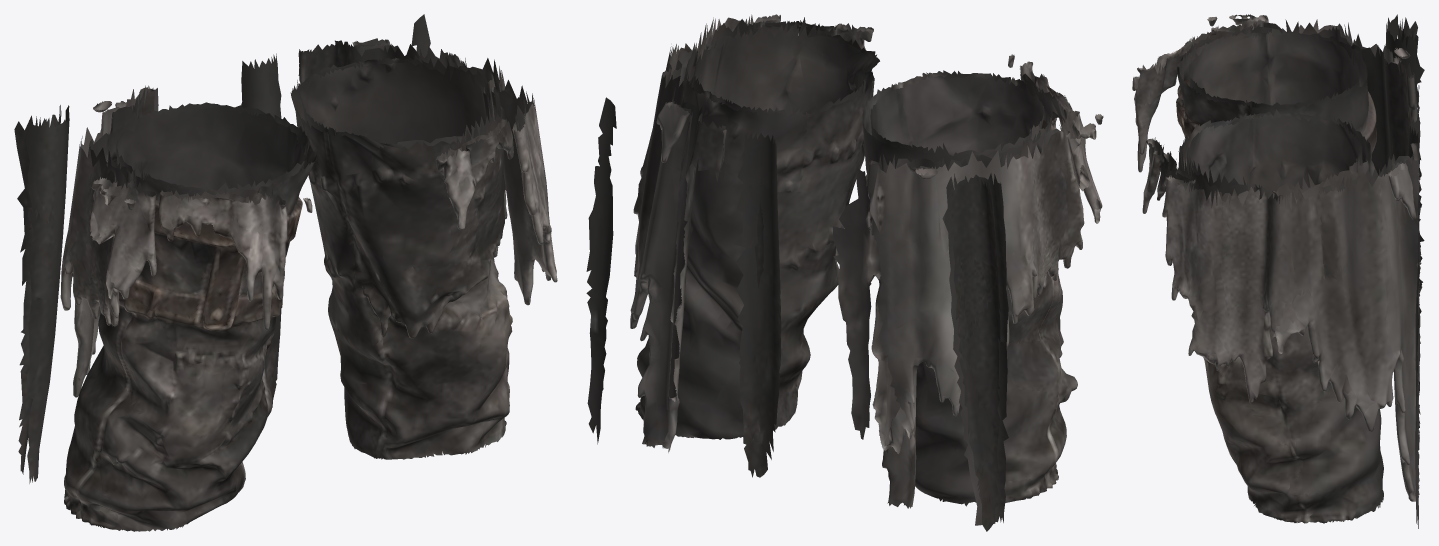
File: leather_pants.glb
3 views of the same model, side by side, from view 1: azimuth 30°, elevation 25°; view 2: azimuth 150°, elevation 25°; view 3: azimuth 270°, elevation 25° (orthographic). The views are drawn at different scales.
Bounding box in the file's own units: 0.5024 × 0.4069 × 0.3153.
1 material, 1 textured.
